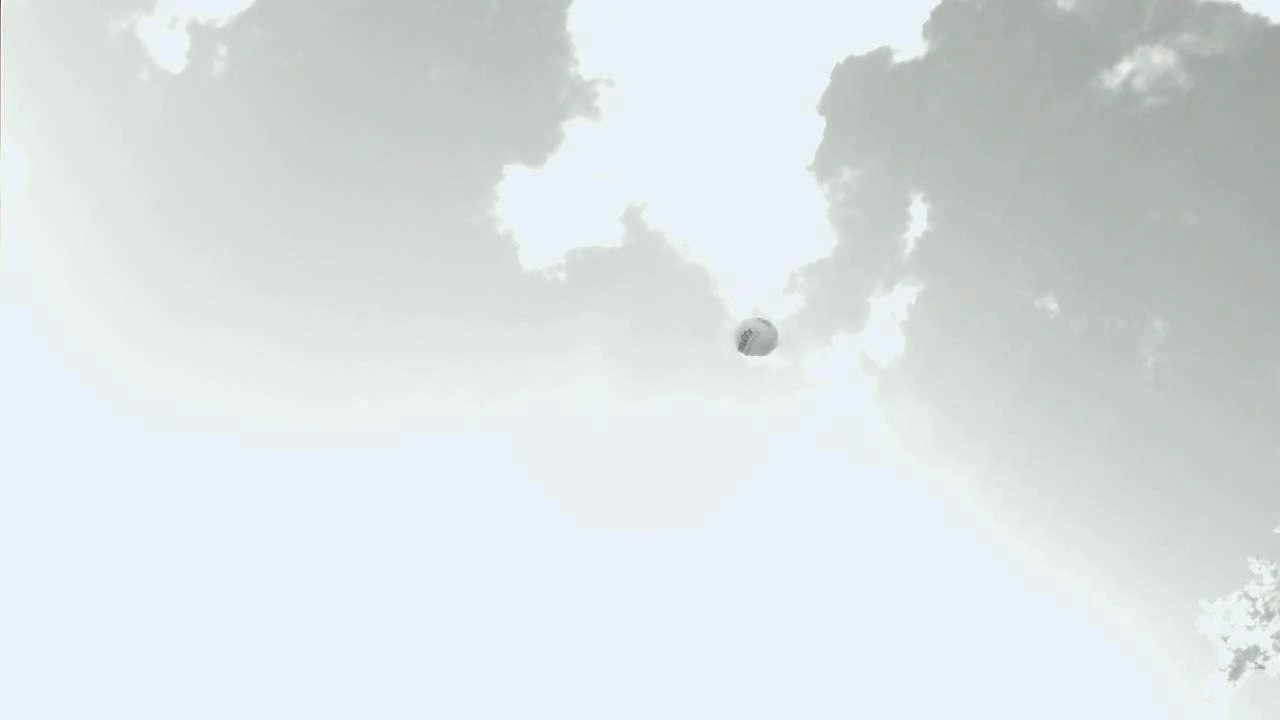Football-Spotter: (734, 317, 777, 355)
